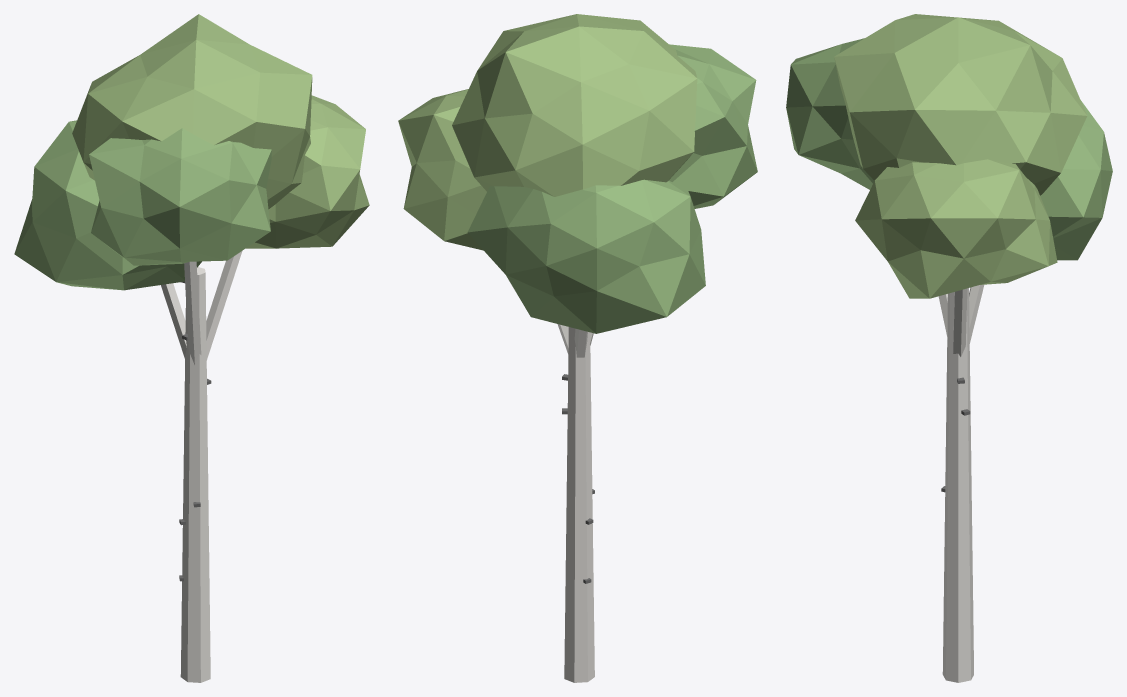
Rendered from node_tree_swamp_1.glb.
3 renders of one model, left to right at view 1: azimuth 30°, elevation 25°; view 2: azimuth 150°, elevation 25°; view 3: azimuth 270°, elevation 25°, orthographic. The views are drawn at different scales.
Parts seen in each view (by area): view 1: node_tree_swamp_1; view 2: node_tree_swamp_1; view 3: node_tree_swamp_1.
Part boxes in pixels (x1,y1,x2,y2): node_tree_swamp_1: (14,14,369,682); node_tree_swamp_1: (398,14,757,682); node_tree_swamp_1: (786,14,1112,682).
Bounding box in the file's own units: 3.07 × 6.33 × 2.84.
